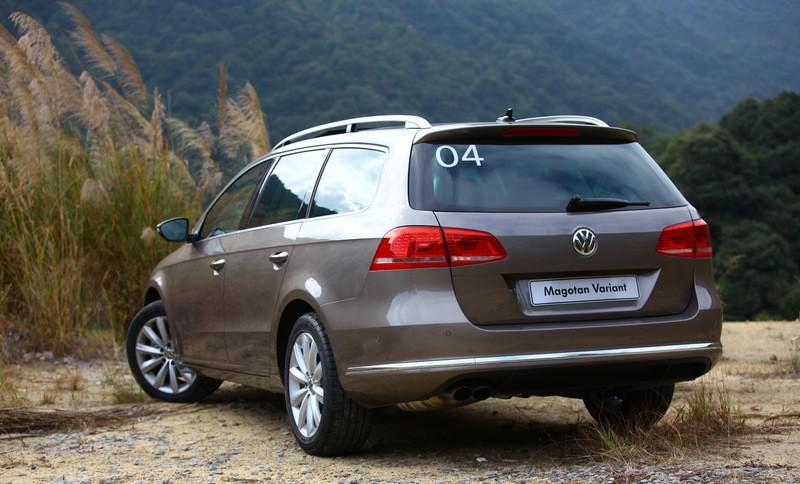Wagon: (125, 108, 724, 458)
